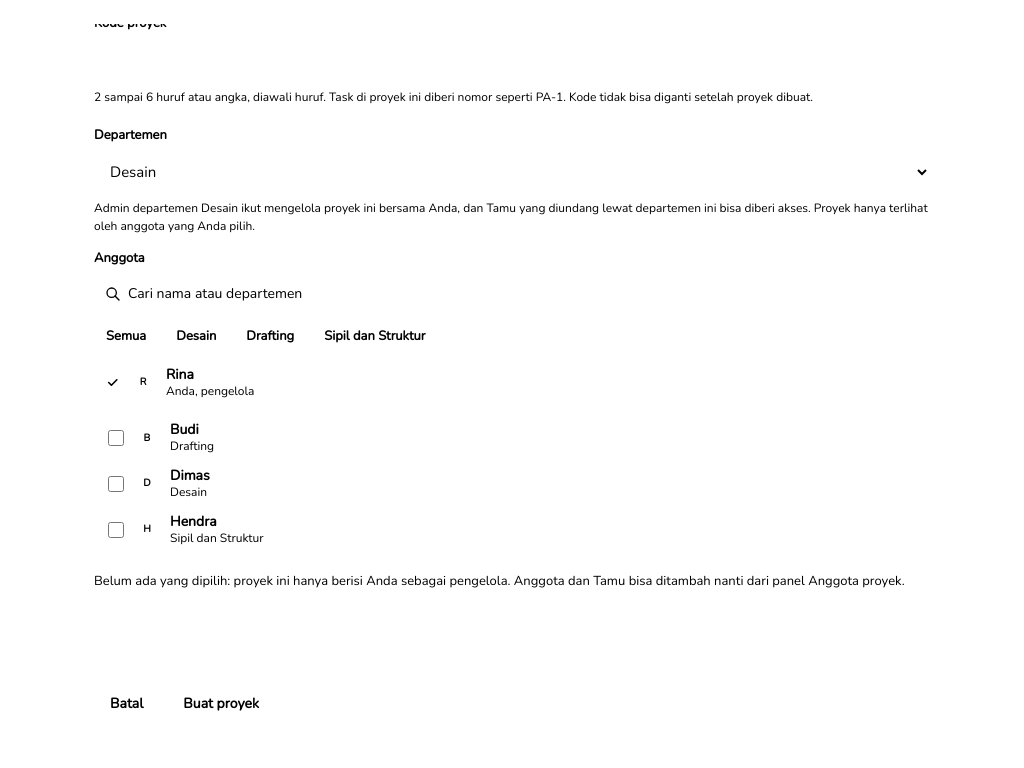
it: NewProjectDialog: nama dan kode › nama kosong: pesan di kolom nama
This screenshot has width=1024, height=768.
(page scrolled)
Click the button "Buat proyek" at (221, 704), box [167,684,275,724]
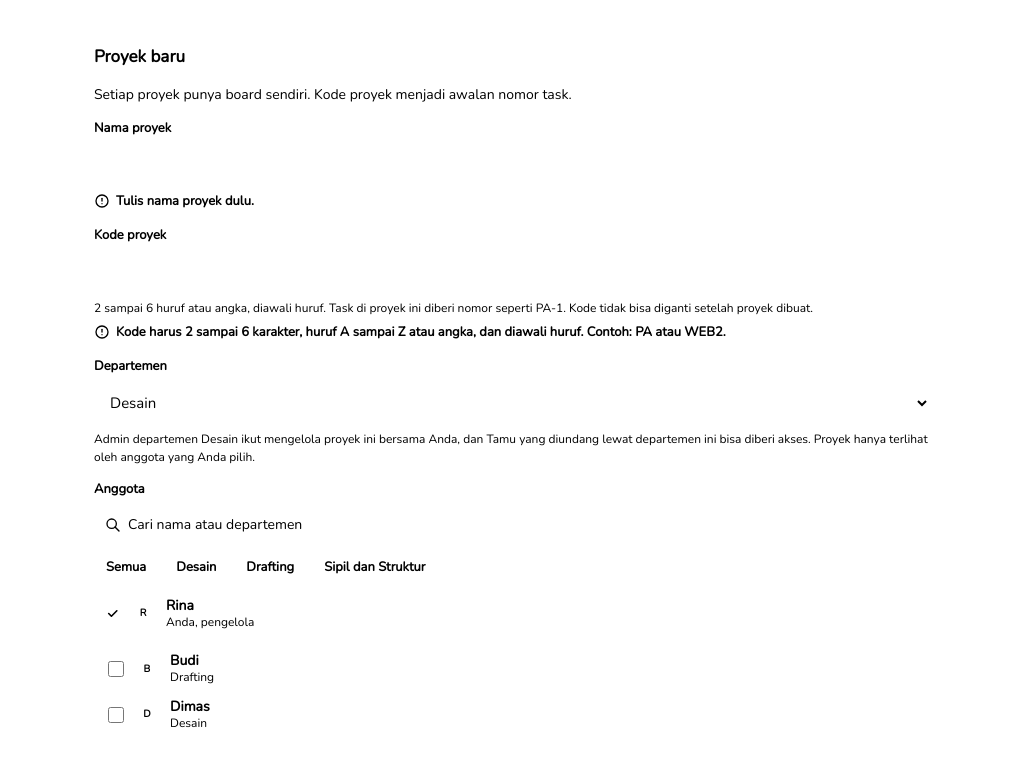
Expected: the text "Tulis nama proyek dulu." is shown, [94,192,254,210]
